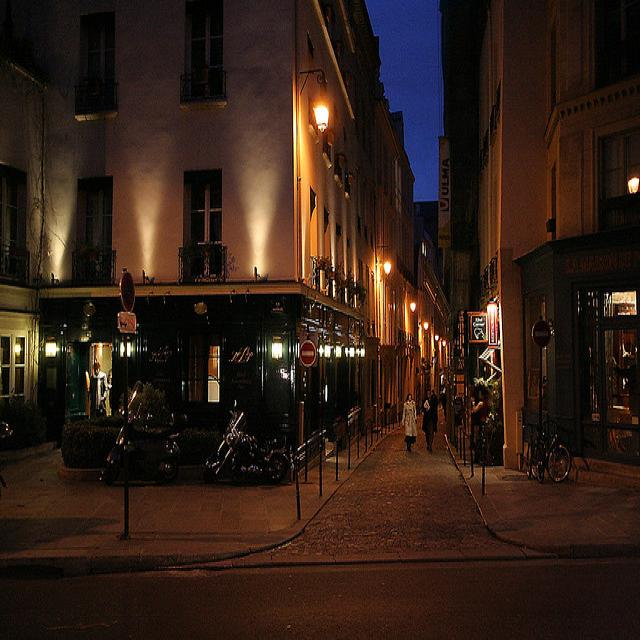motor: (97, 382, 180, 486), (205, 402, 291, 485)
